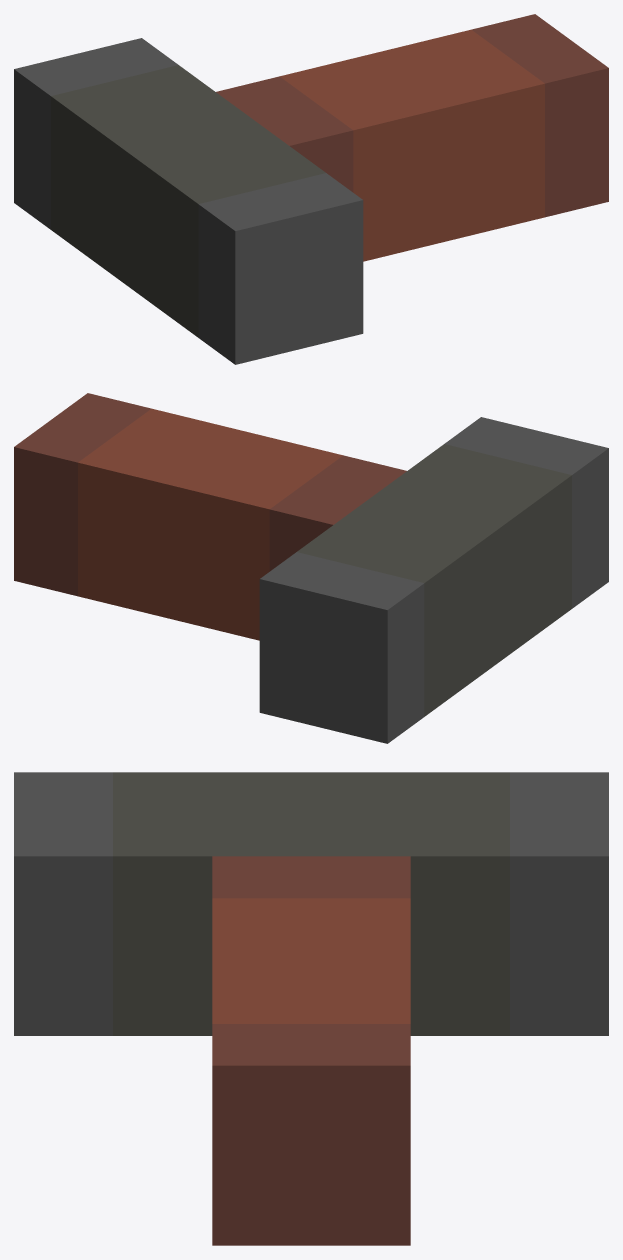
The model's file is obj-0-hammer.obj.
The picture shows the model from 3 angles, top to bottom: view 1: azimuth 30°, elevation 25°; view 2: azimuth 150°, elevation 25°; view 3: azimuth 270°, elevation 25°; orthographic projection. The views are drawn at different scales.
Parts seen in each view (by area): view 1: hammer; view 2: hammer; view 3: hammer.
Part boxes in pixels (bbox=[...]): hammer: bbox=[14, 14, 608, 364]; hammer: bbox=[14, 393, 608, 743]; hammer: bbox=[14, 772, 608, 1245].
Bounding box in the file's own units: 0.7 × 0.2 × 0.6.
Materials: 1 (1 with a texture image).
